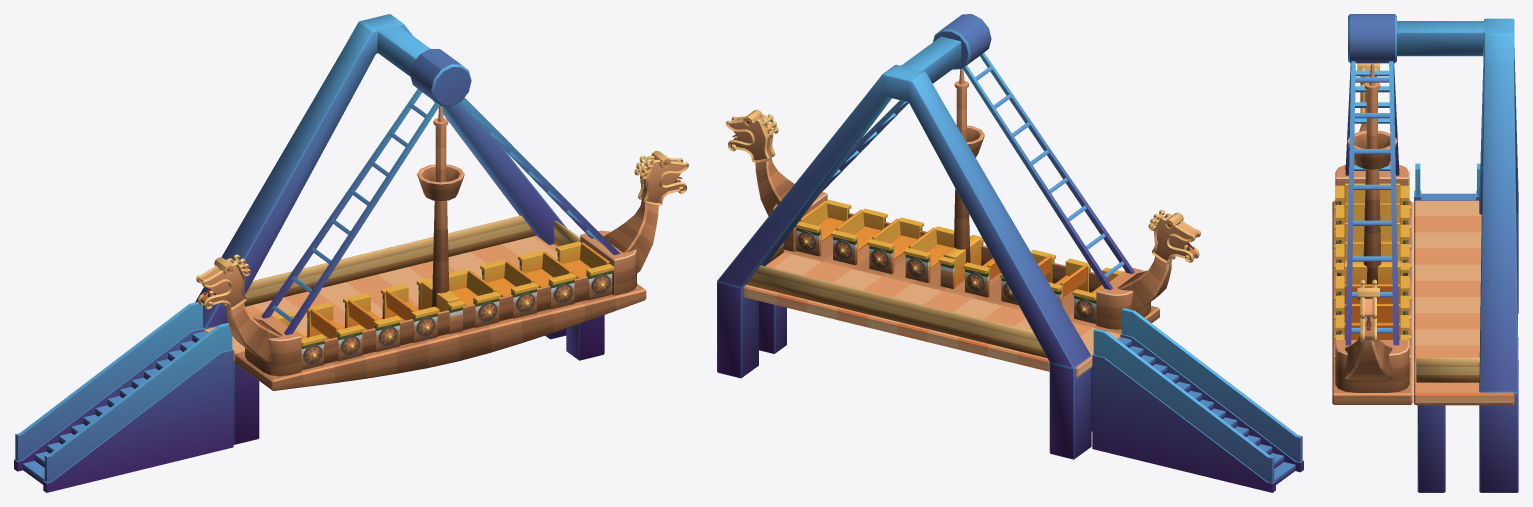
The model's file is lpb_ride_viking.fbx.
3 renders of one model, left to right at view 1: azimuth 30°, elevation 25°; view 2: azimuth 150°, elevation 25°; view 3: azimuth 270°, elevation 25°, orthographic. The views are drawn at different scales.
Visible parts, largest first — view 1: vk_support, vk_boat; view 2: vk_support, vk_boat; view 3: vk_support, vk_boat.
Part boxes in pixels (x1,y1,x2,y2): vk_support: [14, 14, 604, 492]; vk_boat: [196, 48, 688, 390]; vk_support: [717, 36, 1303, 492]; vk_boat: [726, 14, 1200, 334]; vk_support: [1397, 18, 1518, 492]; vk_boat: [1332, 14, 1412, 404].
Size of the model in its own units: 20.4 by 11.34 by 5.03.
